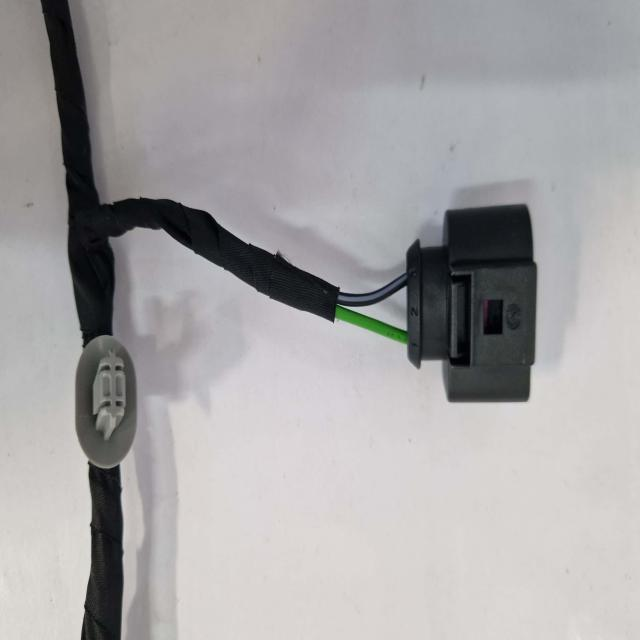Clip: (71, 327, 140, 471)
Connector: (403, 200, 543, 413)
Gape: (334, 271, 412, 349)
MHEV_N11_Cable: (50, 36, 357, 347), (77, 447, 124, 640)
